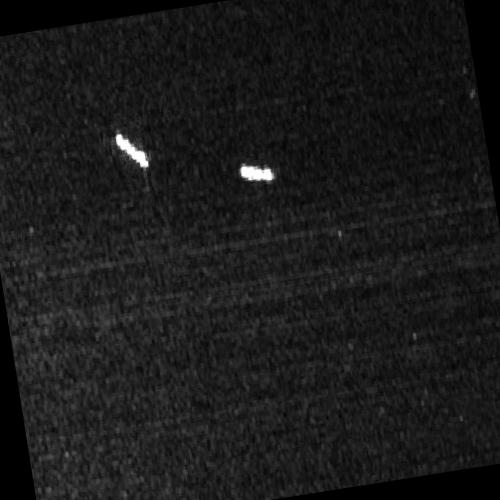ship: (115, 133, 150, 169), (239, 163, 275, 182)
